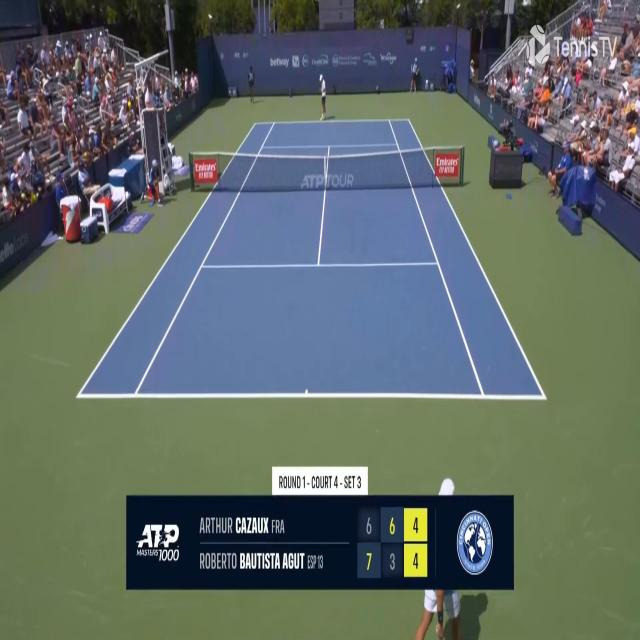tennis-player: (317, 72, 328, 121)
